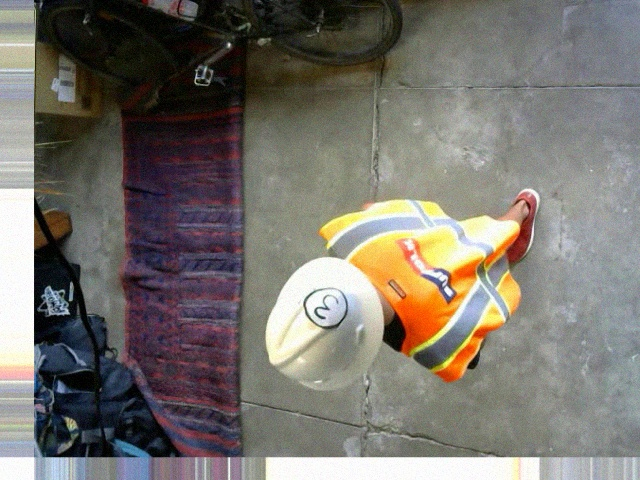three: (302, 286, 347, 327)
